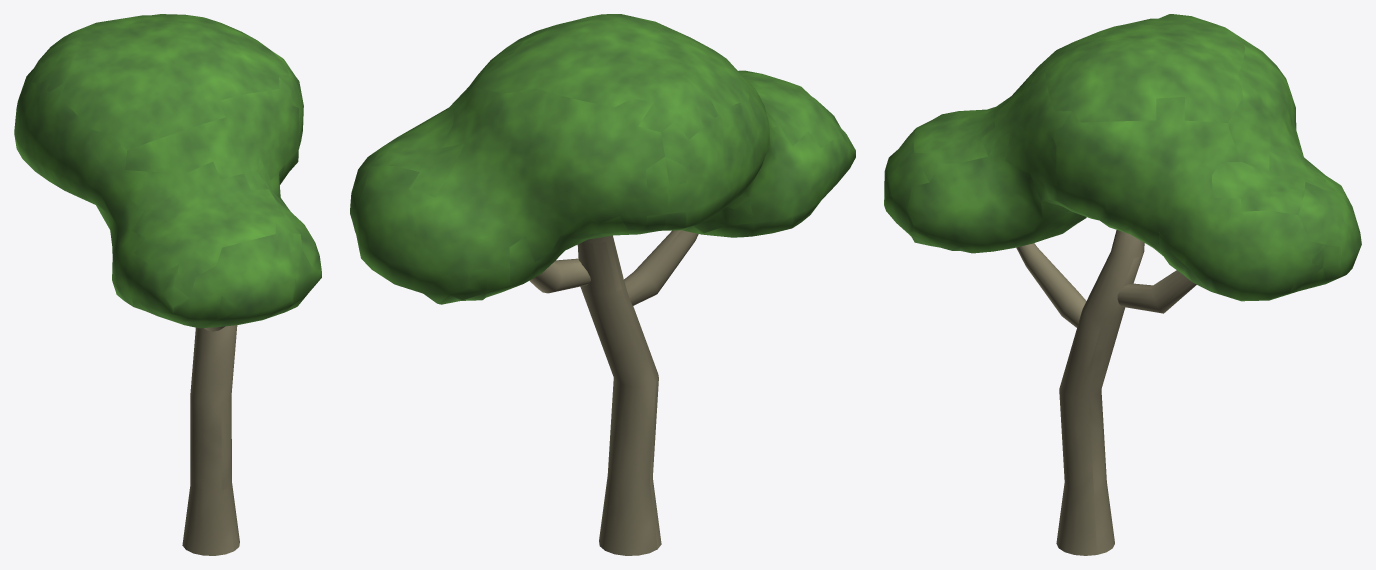
File: Tree.fbx
3 views of the same model, side by side, from view 1: azimuth 30°, elevation 25°; view 2: azimuth 150°, elevation 25°; view 3: azimuth 270°, elevation 25° (orthographic). The views are drawn at different scales.
Visible parts, largest first — view 1: Sphere, Circle; view 2: Sphere, Circle; view 3: Sphere, Circle.
Part boxes in pixels (<box>): Sphere: <box>14,14,321,328</box>; Circle: <box>182,325,239,555</box>; Sphere: <box>350,14,855,304</box>; Circle: <box>529,230,698,555</box>; Sphere: <box>884,14,1361,301</box>; Circle: <box>1016,230,1196,555</box>.
Size of the model in its own units: 344 by 542 by 472.
Materials: 1 (1 with a texture image).
